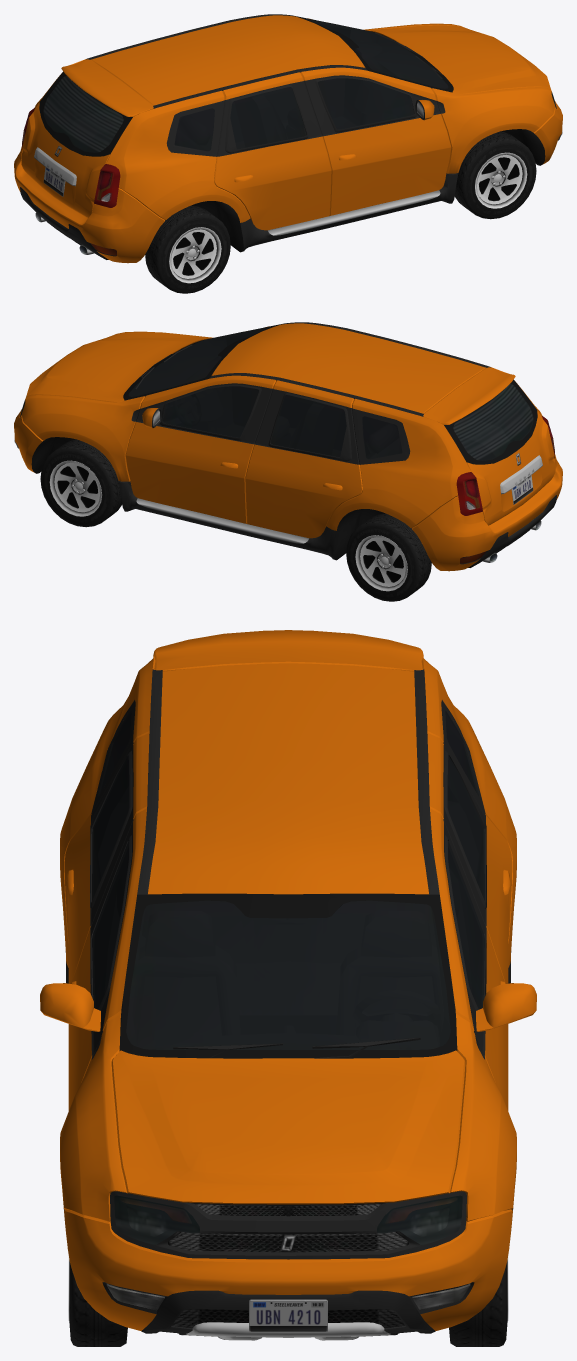
The model's file is v_urban10.glb.
3 renders of one model, top to bottom at view 1: azimuth 30°, elevation 25°; view 2: azimuth 150°, elevation 25°; view 3: azimuth 270°, elevation 25°, orthographic. The views are drawn at different scales.
Parts seen in each view (by area): view 1: Urban10_body_Urban10_bodymat_0, Urban10_Bottom_UCB_BOTTOM_LT_0, Urban10_Interior_UCB_Interiors_2_0, Urban10_WheelStock_RR_RB1c_Tire_1k_0, Urban10_WheelStock_FR_RB1c_Tire_1k_0, Urban10_Bumper_Rear_Urban10_bodymat_0, Urban10_Body_Glass_UCB_Lights_and_Glass_Transperent_0, Urban10_Glass_Rear_UCB_Lights_and_Glass_Transperent_0, Urban10_Glass_Passenger_UCB_Lights_and_Glass_Transperent_0, Urban10_Windshield_UCB_Lights_and_Glass_Transperent_0, Urban10_Taillights_Glass_UCB_Lights_and_Glass_Transperent_0, Urban10_Bumper_Rear_Inner_UCB_BOTTOM_LT_0 (+2 smaller); view 2: Urban10_body_Urban10_bodymat_0, Urban10_Bottom_UCB_BOTTOM_LT_0, Urban10_Interior_UCB_Interiors_2_0, Urban10_WheelStock_RL_RB1c_Tire_1k_0, Urban10_WheelStock_FL_RB1c_Tire_1k_0, Urban10_Bumper_Rear_Urban10_bodymat_0, Urban10_Body_Glass_UCB_Lights_and_Glass_Transperent_0, Urban10_Glass_Rear_UCB_Lights_and_Glass_Transperent_0, Urban10_Glass_Driver_UCB_Lights_and_Glass_Transperent_0, Urban10_Windshield_UCB_Lights_and_Glass_Transperent_0, Urban10_Taillights_Glass_UCB_Lights_and_Glass_Transperent_0, Urban10_Bumper_Rear_Inner_UCB_BOTTOM_LT_0 (+3 smaller); view 3: Urban10_body_Urban10_bodymat_0, Urban10_Interior_UCB_Interiors_2_0, Urban10_Windshield_UCB_Lights_and_Glass_Transperent_0, Urban10_Bottom_UCB_BOTTOM_LT_0, Urban10_Bumper_Front_Urban10_bodymat_0, Urban10_Bumper_Front_Inner_UCB_BOTTOM_LT_0, Urban10_Body_Glass_UCB_Lights_and_Glass_Transperent_0, Urban10_Headlight_Glass_UCB_Lights_and_Glass_Transperent_0, Urban10_Glass_Passenger_UCB_Lights_and_Glass_Transperent_0, Urban10_Glass_Driver_UCB_Lights_and_Glass_Transperent_0, Urban10_Numberplate_Front_Numberplates_Misk_U_0, Urban10_WheelStock_FL_RB1c_Tire_1k_0 (+4 smaller).
Boxes of the visible parts, bbox=[...] form: Urban10_body_Urban10_bodymat_0: bbox=[21, 15, 555, 263]; Urban10_Bottom_UCB_BOTTOM_LT_0: bbox=[31, 14, 556, 254]; Urban10_Interior_UCB_Interiors_2_0: bbox=[45, 18, 447, 151]; Urban10_WheelStock_RR_RB1c_Tire_1k_0: bbox=[145, 205, 230, 293]; Urban10_WheelStock_FR_RB1c_Tire_1k_0: bbox=[454, 131, 536, 219]; Urban10_Bumper_Rear_Urban10_bodymat_0: bbox=[14, 146, 164, 262]; Urban10_Body_Glass_UCB_Lights_and_Glass_Transperent_0: bbox=[174, 87, 306, 151]; Urban10_Glass_Rear_UCB_Lights_and_Glass_Transperent_0: bbox=[43, 76, 123, 152]; Urban10_Glass_Passenger_UCB_Lights_and_Glass_Transperent_0: bbox=[318, 78, 414, 129]; Urban10_Windshield_UCB_Lights_and_Glass_Transperent_0: bbox=[301, 17, 448, 88]; Urban10_Taillights_Glass_UCB_Lights_and_Glass_Transperent_0: bbox=[22, 108, 120, 207]; Urban10_Bumper_Rear_Inner_UCB_BOTTOM_LT_0: bbox=[20, 187, 116, 259]; Urban10_body_Urban10_bodymat_0: bbox=[21, 323, 555, 538]; Urban10_Bottom_UCB_BOTTOM_LT_0: bbox=[20, 322, 553, 562]; Urban10_Interior_UCB_Interiors_2_0: bbox=[129, 327, 531, 459]; Urban10_WheelStock_RL_RB1c_Tire_1k_0: bbox=[346, 513, 431, 601]; Urban10_WheelStock_FL_RB1c_Tire_1k_0: bbox=[40, 439, 122, 527]; Urban10_Bumper_Rear_Urban10_bodymat_0: bbox=[412, 454, 562, 571]; Urban10_Body_Glass_UCB_Lights_and_Glass_Transperent_0: bbox=[270, 395, 402, 459]; Urban10_Glass_Rear_UCB_Lights_and_Glass_Transperent_0: bbox=[453, 384, 533, 460]; Urban10_Glass_Driver_UCB_Lights_and_Glass_Transperent_0: bbox=[162, 386, 258, 437]; Urban10_Windshield_UCB_Lights_and_Glass_Transperent_0: bbox=[128, 325, 275, 396]; Urban10_Taillights_Glass_UCB_Lights_and_Glass_Transperent_0: bbox=[456, 416, 554, 515]; Urban10_Bumper_Rear_Inner_UCB_BOTTOM_LT_0: bbox=[460, 495, 556, 567]; Urban10_body_Urban10_bodymat_0: bbox=[40, 630, 536, 1259]; Urban10_Interior_UCB_Interiors_2_0: bbox=[94, 670, 482, 1204]; Urban10_Windshield_UCB_Lights_and_Glass_Transperent_0: bbox=[126, 900, 450, 1049]; Urban10_Bottom_UCB_BOTTOM_LT_0: bbox=[63, 669, 513, 1259]; Urban10_Bumper_Front_Urban10_bodymat_0: bbox=[64, 1209, 512, 1330]; Urban10_Bumper_Front_Inner_UCB_BOTTOM_LT_0: bbox=[102, 1282, 474, 1340]; Urban10_Body_Glass_UCB_Lights_and_Glass_Transperent_0: bbox=[92, 710, 484, 900]; Urban10_Headlight_Glass_UCB_Lights_and_Glass_Transperent_0: bbox=[114, 1195, 462, 1245]; Urban10_Glass_Passenger_UCB_Lights_and_Glass_Transperent_0: bbox=[92, 840, 129, 1009]; Urban10_Glass_Driver_UCB_Lights_and_Glass_Transperent_0: bbox=[447, 840, 484, 1009]; Urban10_Numberplate_Front_Numberplates_Misk_U_0: bbox=[249, 1299, 327, 1331]; Urban10_WheelStock_FL_RB1c_Tire_1k_0: bbox=[449, 1256, 508, 1346].
Bounding box in the file's own units: 4.29 × 1.52 × 1.88.
Materials: 8 (7 with a texture image).
